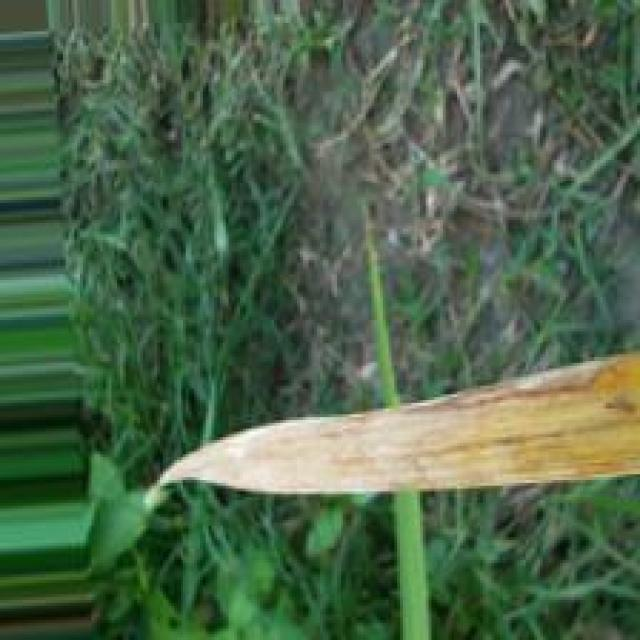Bacterial_Leaf_Blight: (160, 351, 640, 493)
